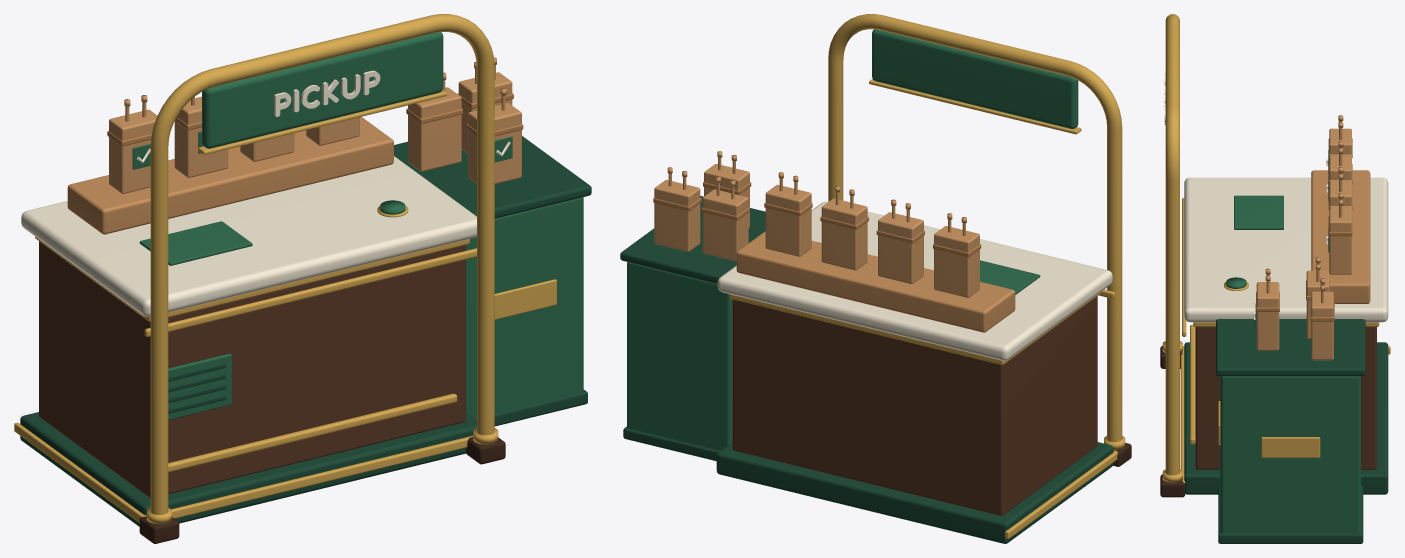
File: pickup_desk.glb
The picture shows the model from 3 angles, left to right: view 1: azimuth 30°, elevation 25°; view 2: azimuth 150°, elevation 25°; view 3: azimuth 270°, elevation 25°; orthographic projection. The views are drawn at different scales.
Visible parts, largest first — view 1: Body, Top, Arch, Cabinet, Sign, BackShelf, Plinth, CabinetTop, CabBag0, KickBrass, LipBrass, FrontRail (+16 smaller); view 2: Body, Cabinet, Top, Arch, Sign, Plinth, BackShelf, CabinetTop, Bag3, Bag2, CabBag1, Bag0 (+8 smaller); view 3: Cabinet, Top, CabinetTop, Arch, Body, BackShelf, Plinth, CabinetKick, Mat, CabBag2, CabBag1, Bag3 (+9 smaller).
Part boxes in pixels (x1,y1,x2,y2): Body: (39,241,465,498); Top: (21,156,476,316); Arch: (150,14,494,514); Cabinet: (466,197,583,418); Sign: (202,32,443,148); BackShelf: (67,117,393,234); Plinth: (20,412,476,526); CabinetTop: (394,136,591,218); CabBag0: (408,87,461,171); KickBrass: (145,435,473,518); LipBrass: (144,248,476,336); FrontRail: (168,393,457,472); Body: (732,296,1097,515); Cabinet: (627,262,732,450); Top: (717,201,1112,360); Arch: (828,14,1122,442); Sign: (872,29,1078,128); Plinth: (716,442,1113,543); BackShelf: (736,231,1015,332); CabinetTop: (620,196,765,283); Bag3: (765,184,811,256); Bag2: (821,198,867,270); CabBag1: (654,180,700,251); Bag0: (934,226,979,297); Cabinet: (1220,376,1360,533); Top: (1184,177,1388,322); CabinetTop: (1216,319,1365,376); Arch: (1165,14,1179,475); Body: (1195,327,1376,469); BackShelf: (1311,170,1370,303); Plinth: (1184,342,1388,494); CabinetKick: (1218,485,1363,543); Mat: (1234,195,1283,229); CabBag2: (1256,282,1279,350); CabBag1: (1311,291,1333,360); Bag3: (1329,206,1351,274).
Bounding box in the file's own units: 1.95 × 1.78 × 1.02.
